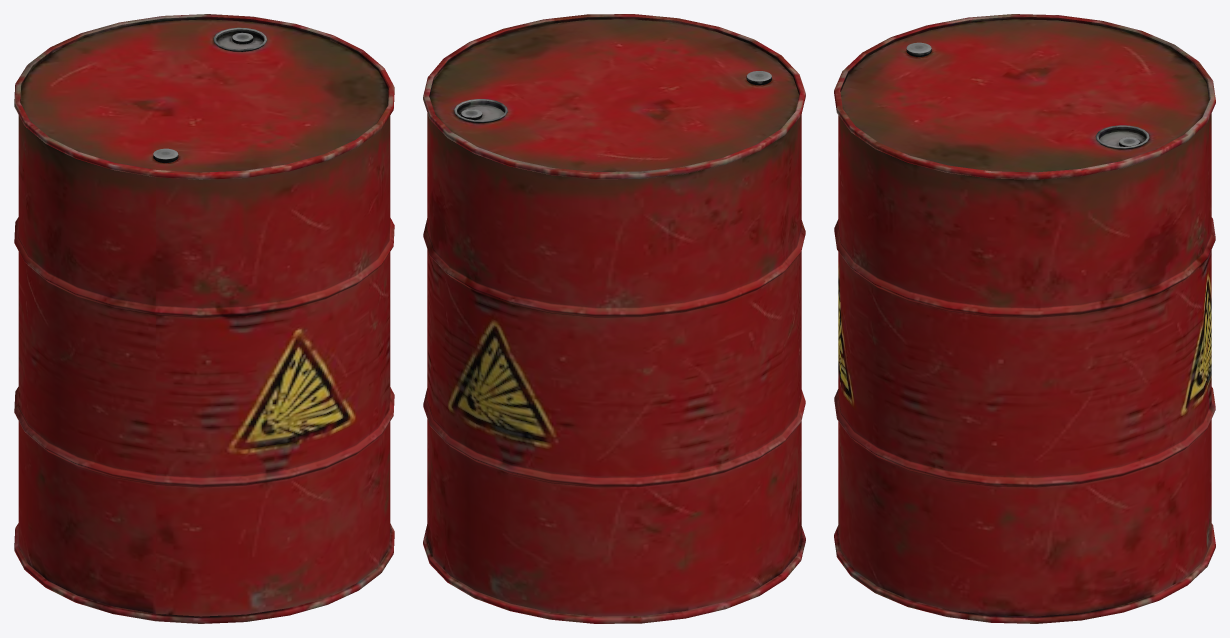
Rendered from prop-explodingbarrel.glb.
3 renders of one model, left to right at view 1: azimuth 30°, elevation 25°; view 2: azimuth 150°, elevation 25°; view 3: azimuth 270°, elevation 25°, orthographic.
Parts seen in each view (by area): view 1: prop-explodingbarrel; view 2: prop-explodingbarrel; view 3: prop-explodingbarrel.
Part boxes in pixels (x1,y1,x2,y2): prop-explodingbarrel: (14,14,394,623); prop-explodingbarrel: (423,14,805,623); prop-explodingbarrel: (834,14,1215,623).
Size of the model in its own units: 0.784 by 1.02 by 0.784.
1 material, 1 textured.
